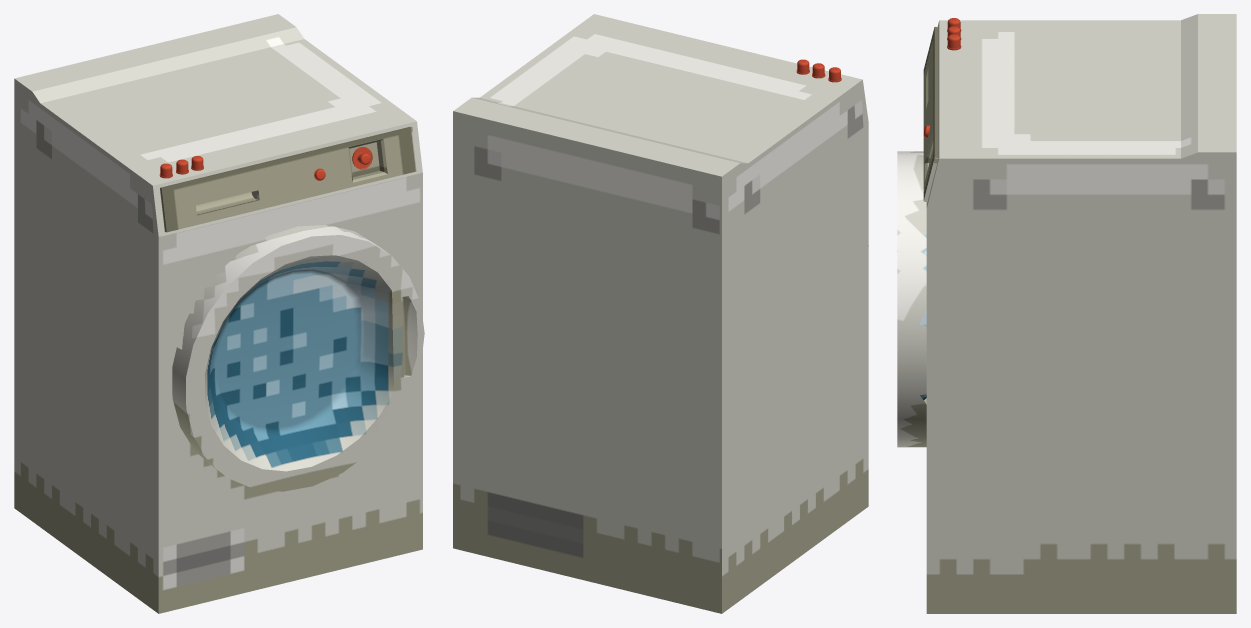
File: (OLD)Washing Machine.fbx
3 views of the same model, side by side, from view 1: azimuth 30°, elevation 25°; view 2: azimuth 150°, elevation 25°; view 3: azimuth 270°, elevation 25° (orthographic). The views are drawn at different scales.
Parts seen in each view (by area): view 1: pCylinder7; view 2: pCylinder7; view 3: pCylinder7.
Boxes of the visible parts, x1=… form: pCylinder7: x1=14, y1=14, x2=424, y2=613; pCylinder7: x1=453, y1=14, x2=868, y2=613; pCylinder7: x1=897, y1=14, x2=1236, y2=613.
Bounding box in the file's own units: 39.43 × 61.94 × 40.86.
1 material, 1 textured.
